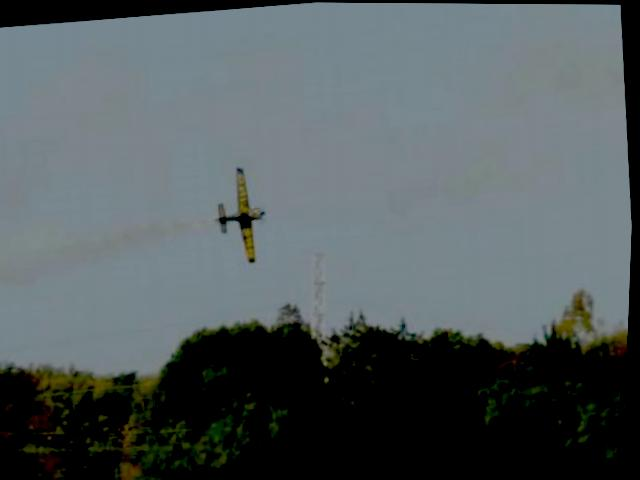uav: (203, 159, 275, 271)
